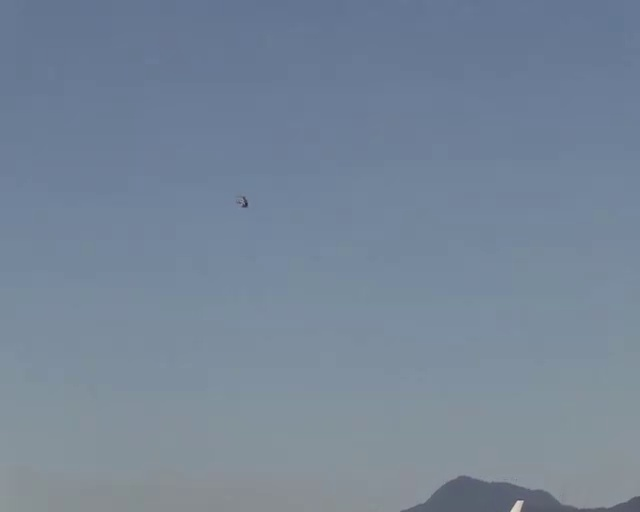HELICOPTER: (237, 195, 249, 208)
